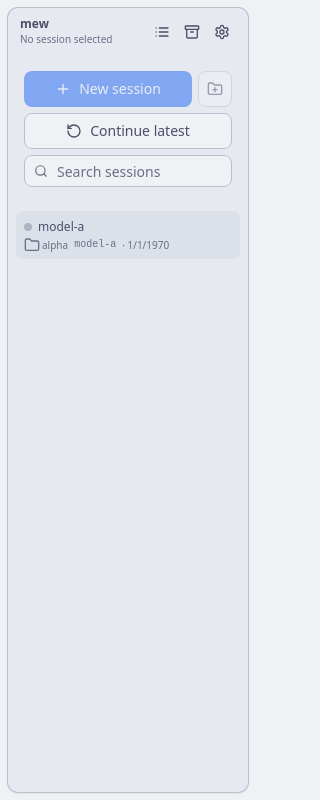
SessionRail workspace collapse › switching to workspace view shows folder headers with session counts
Click the button named "Session view: Timeline". click: click(162, 32)
box: x1=148 y1=18 x2=176 y2=46
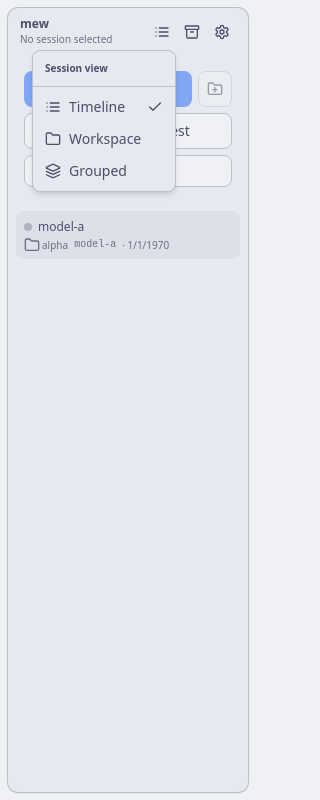
Click the menu item "Workspace". click: click(93, 138)
box: x1=45 y1=129 x2=141 y2=148
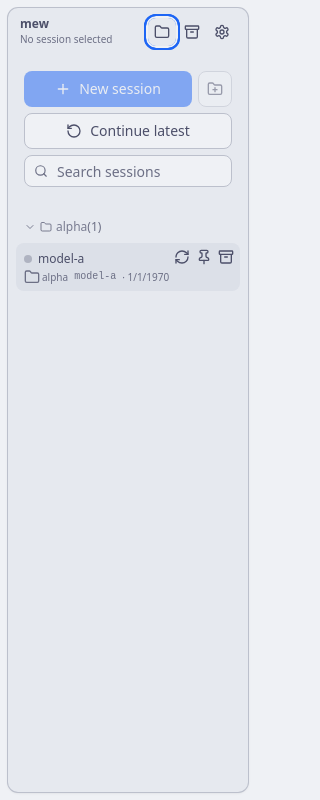
Expected: the text "(1)" is shown, x1=87 y1=218 x2=102 y2=235
